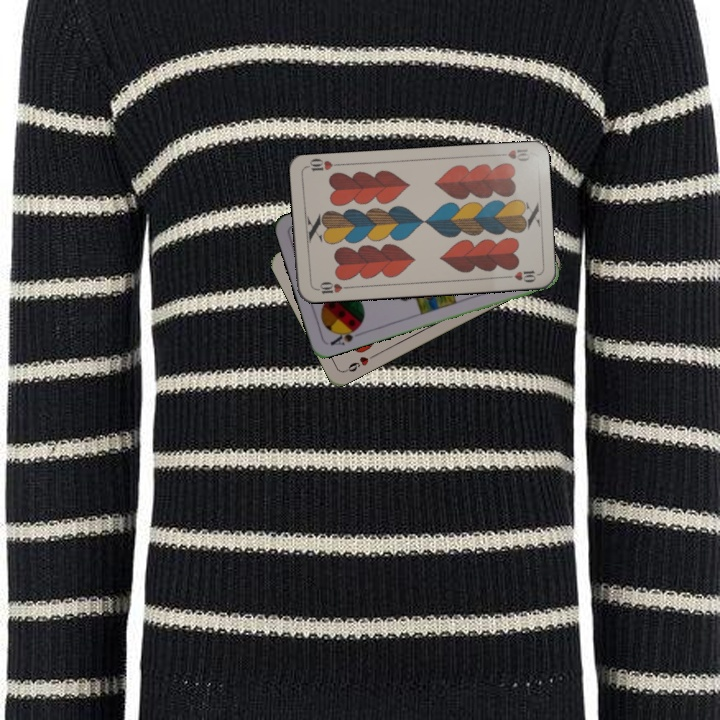H10: (311, 277, 352, 297), (492, 145, 532, 164)
H9: (341, 350, 379, 374)
SA: (326, 322, 362, 348)
